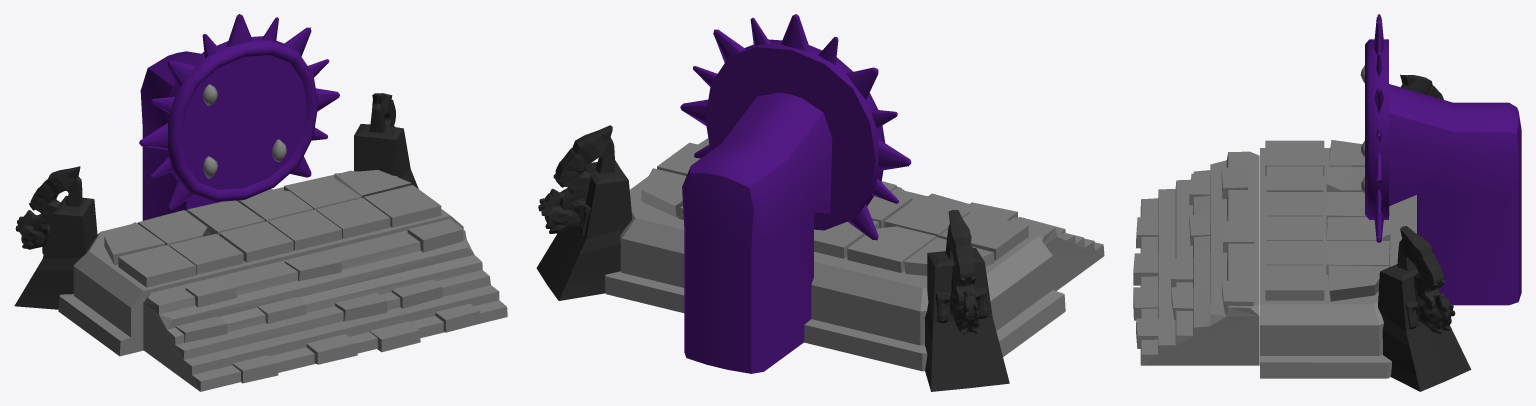
File: AltarGemas_LP.fbx
3 renders of one model, left to right at view 1: azimuth 30°, elevation 25°; view 2: azimuth 150°, elevation 25°; view 3: azimuth 270°, elevation 25°, orthographic. The views are drawn at different scales.
Visible parts, largest first — view 1: Stairs_Altar, Extras_Altar_01, Base_Gemas, Extras_Altar_02, Statues, Base_Altar, Pilar_Gemas, E-002; view 2: Pilar_Gemas, Base_Altar, Statues, Base_Gemas, Extras_Altar_01, E-002, Stairs_Altar, Extras_Altar_02; view 3: Pilar_Gemas, Stairs_Altar, Extras_Altar_01, Base_Altar, Statues, Extras_Altar_02, Base_Gemas, E-002.
Boxes of the visible parts, x1,y1,x2,y2 form: Stairs_Altar: (143,226,507,391); Extras_Altar_01: (104,170,441,287); Base_Gemas: (162,36,318,201); Extras_Altar_02: (175,219,479,383); Statues: (14,93,418,309); Base_Altar: (58,170,463,356); Pilar_Gemas: (140,51,221,220); E-002: (139,14,339,210); Pilar_Gemas: (682,92,832,373); Base_Altar: (605,176,1065,371); Statues: (536,125,1009,391); Base_Gemas: (705,39,884,230); Extras_Altar_01: (641,142,1028,275); E-002: (680,14,911,240); Stairs_Altar: (891,188,1104,290); Extras_Altar_02: (698,138,1065,234); Pilar_Gemas: (1389,84,1521,305); Stairs_Altar: (1140,151,1259,365); Extras_Altar_01: (1265,140,1390,301); Base_Altar: (1260,148,1416,378); Statues: (1378,74,1471,391); Extras_Altar_02: (1133,167,1254,348); Base_Gemas: (1365,39,1388,219); E-002: (1374,14,1384,242).
Size of the model in its own units: 1258 by 753 by 988.
